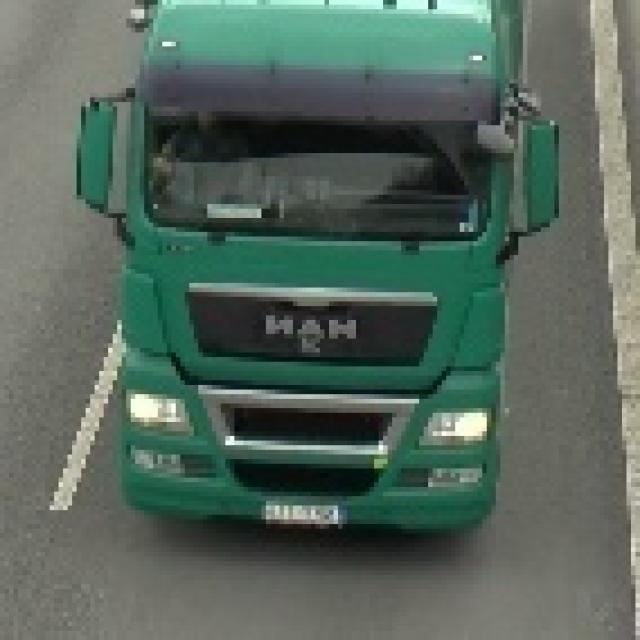truck: (72, 0, 554, 538)
